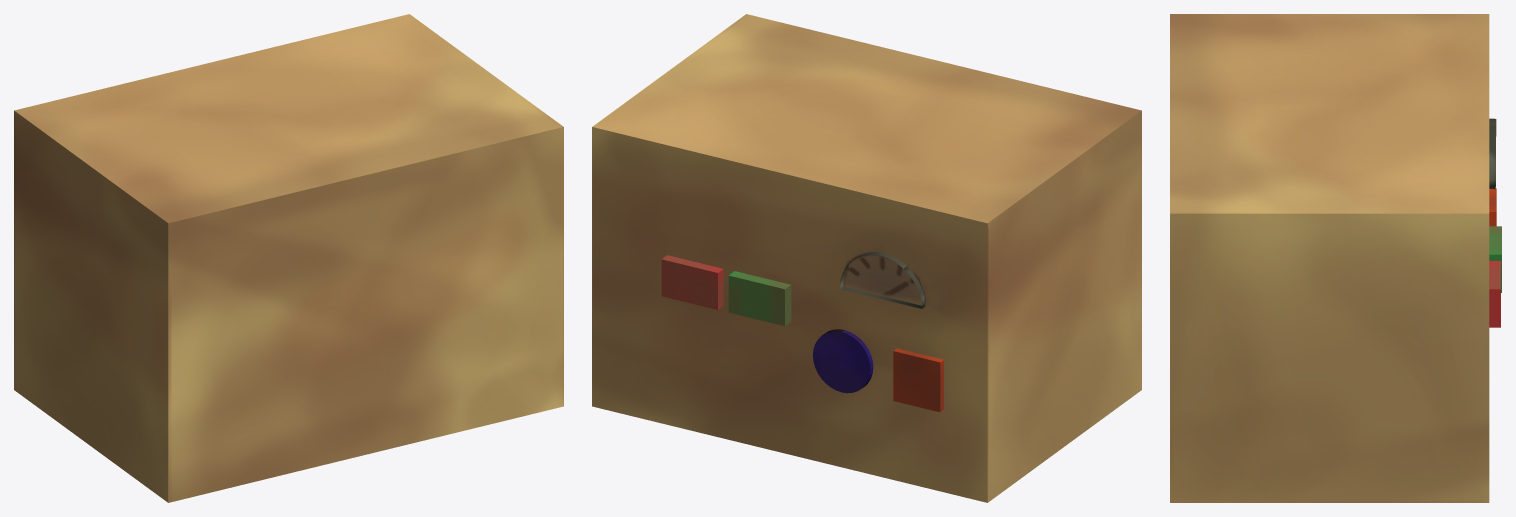
Rendered from generator.fbx.
The picture shows the model from 3 angles, left to right: view 1: azimuth 30°, elevation 25°; view 2: azimuth 150°, elevation 25°; view 3: azimuth 270°, elevation 25°; orthographic projection. The views are drawn at different scales.
Parts seen in each view (by area): view 1: Cube; view 2: Cube, Cylinder, Cube.002, Cube.004, Cube.003, Cube.001; view 3: Cube, Cube.003, Cube.001, Cube.002.
Boxes of the visible parts, x1=… form: Cube: x1=14, y1=14, x2=563, y2=502; Cube: x1=592, y1=14, x2=1141, y2=502; Cylinder: x1=813, y1=329, x2=873, y2=393; Cube.002: x1=728, y1=271, x2=791, y2=326; Cube.004: x1=893, y1=348, x2=943, y2=412; Cube.003: x1=661, y1=255, x2=723, y2=309; Cube.001: x1=839, y1=252, x2=925, y2=308; Cube: x1=1170, y1=14, x2=1489, y2=502; Cube.003: x1=1489, y1=261, x2=1500, y2=327; Cube.001: x1=1489, y1=118, x2=1496, y2=189; Cube.002: x1=1489, y1=226, x2=1501, y2=292.
Size of the model in its own units: 296 by 200 by 208.
Materials: 6 (6 with a texture image).
